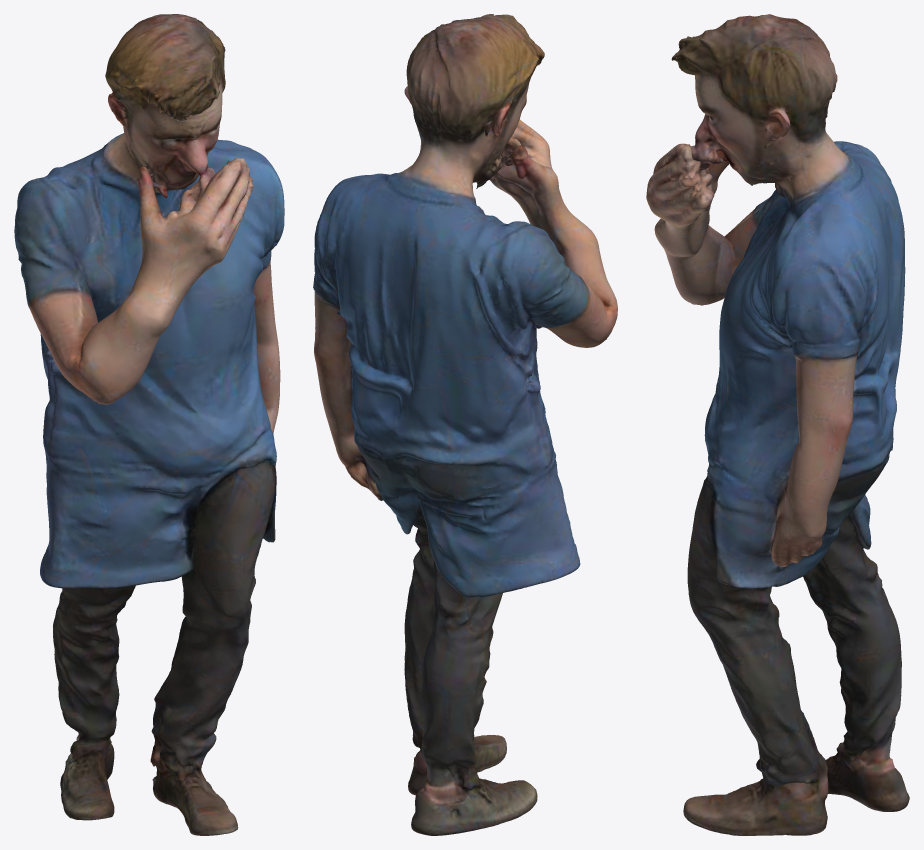
File: Sintoma3Appendix.glb
3 views of the same model, side by side, from view 1: azimuth 30°, elevation 25°; view 2: azimuth 150°, elevation 25°; view 3: azimuth 270°, elevation 25° (orthographic). The views are drawn at different scales.
Visible parts, largest first — view 1: Sintoma3Appendix; view 2: Sintoma3Appendix; view 3: Sintoma3Appendix.
Boxes of the visible parts, x1,y1,x2,y2 form: Sintoma3Appendix: (14,14,284,835); Sintoma3Appendix: (313,14,617,835); Sintoma3Appendix: (646,14,909,835).
Bounding box in the file's own units: 0.6866 × 2 × 0.5993.
1 material, 1 textured.
